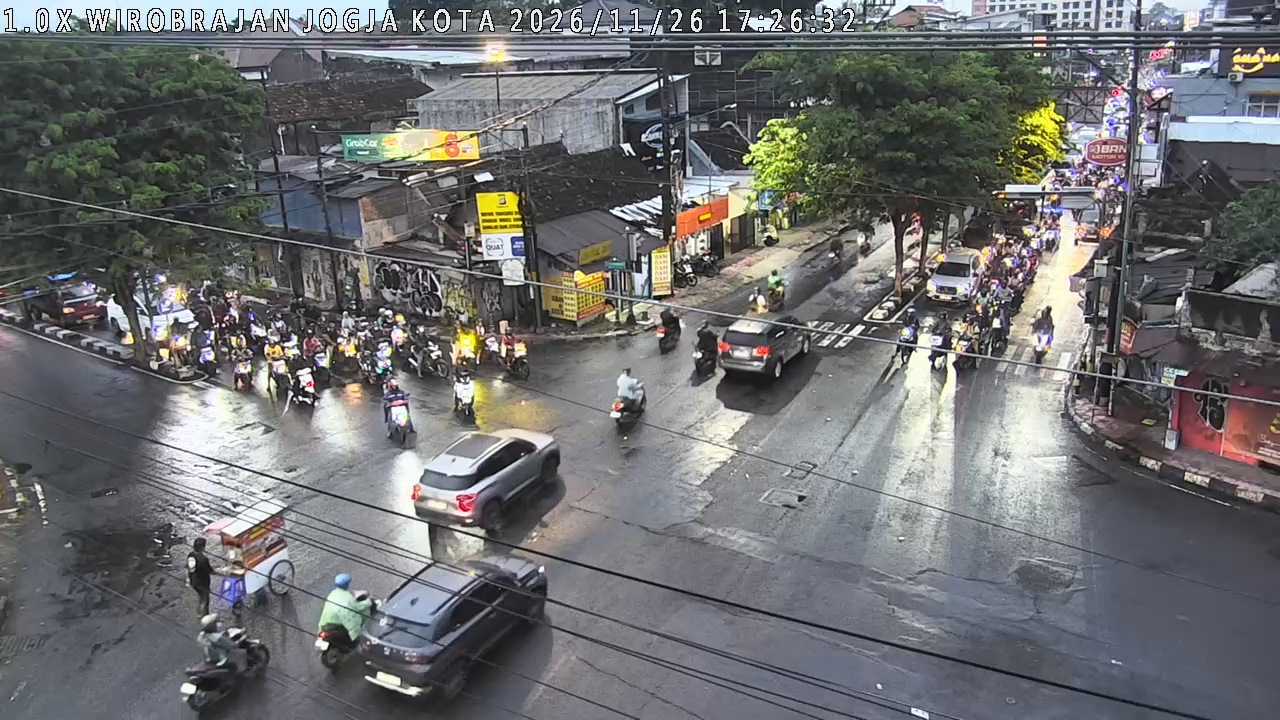Gerobak: (198, 499, 294, 611)
